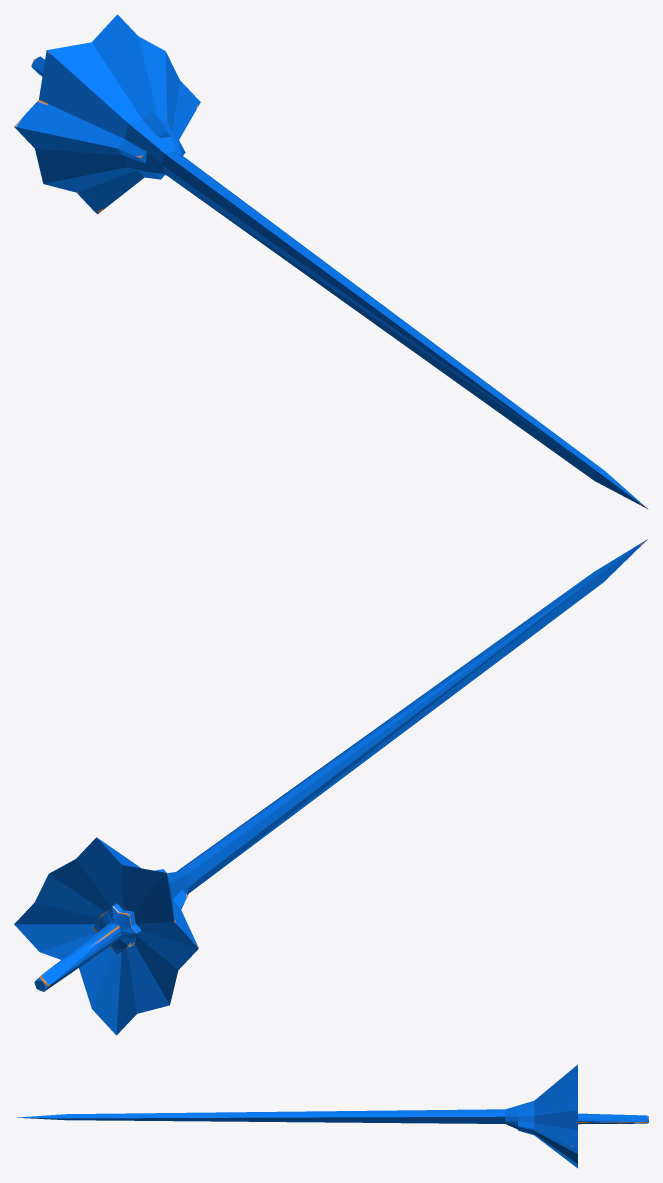
The model's file is EnemyTest_I_Wepon.obj.
The picture shows the model from 3 angles, top to bottom: view 1: azimuth 30°, elevation 25°; view 2: azimuth 150°, elevation 25°; view 3: azimuth 270°, elevation 25°; orthographic projection. The views are drawn at different scales.
Parts seen in each view (by area): view 1: 立方体; view 2: 立方体; view 3: 立方体.
Part boxes in pixels (x1=…): 立方体: x1=14, y1=14, x2=648, y2=509; 立方体: x1=14, y1=539, x2=647, y2=1035; 立方体: x1=17, y1=1064, x2=648, y2=1168.
Size of the model in its own units: 1.95 by 1.95 by 11.07.
Materials: 1 (1 with a texture image).
